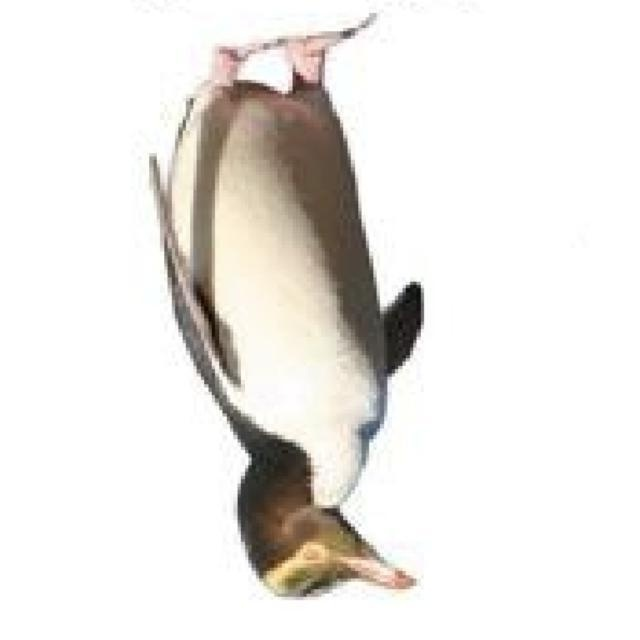penguin: (148, 10, 431, 602)
